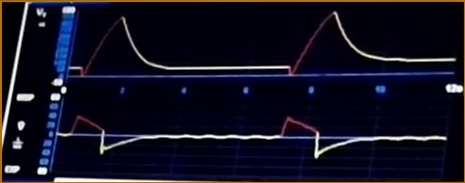Flow: (62, 110, 413, 179)
Leakage Volume: (73, 13, 425, 83)
